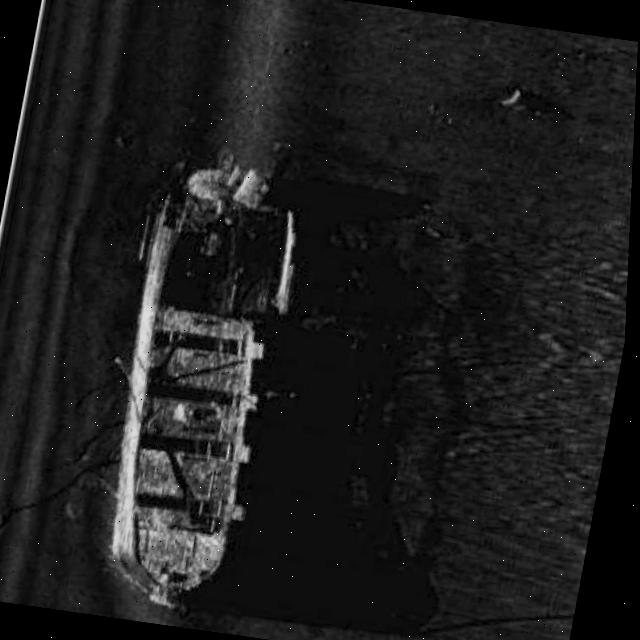shipwreck: (88, 152, 308, 622)
